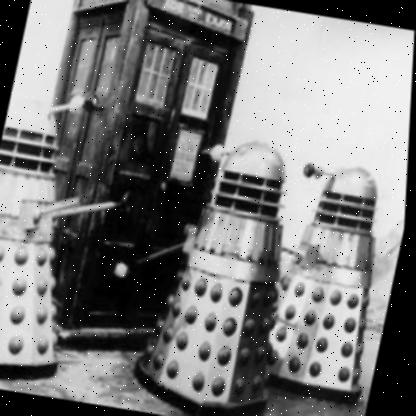dalek: (130, 131, 329, 416), (0, 67, 154, 402), (253, 148, 404, 410)
